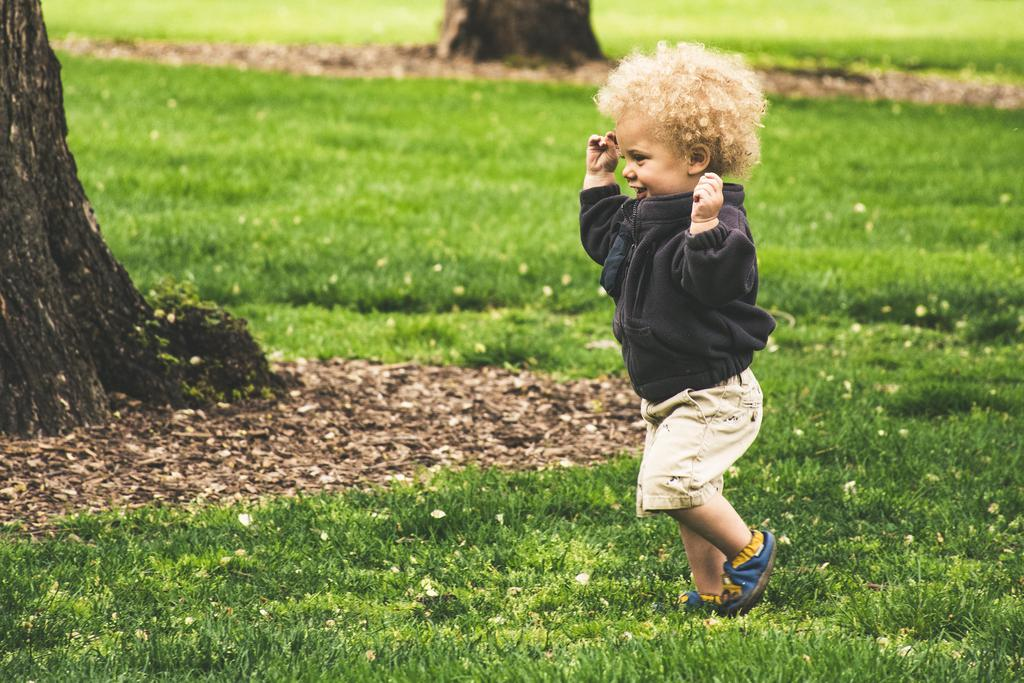child: (563, 37, 804, 625)
